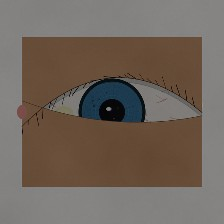pinguecula_lesion: (44, 97, 83, 128)
